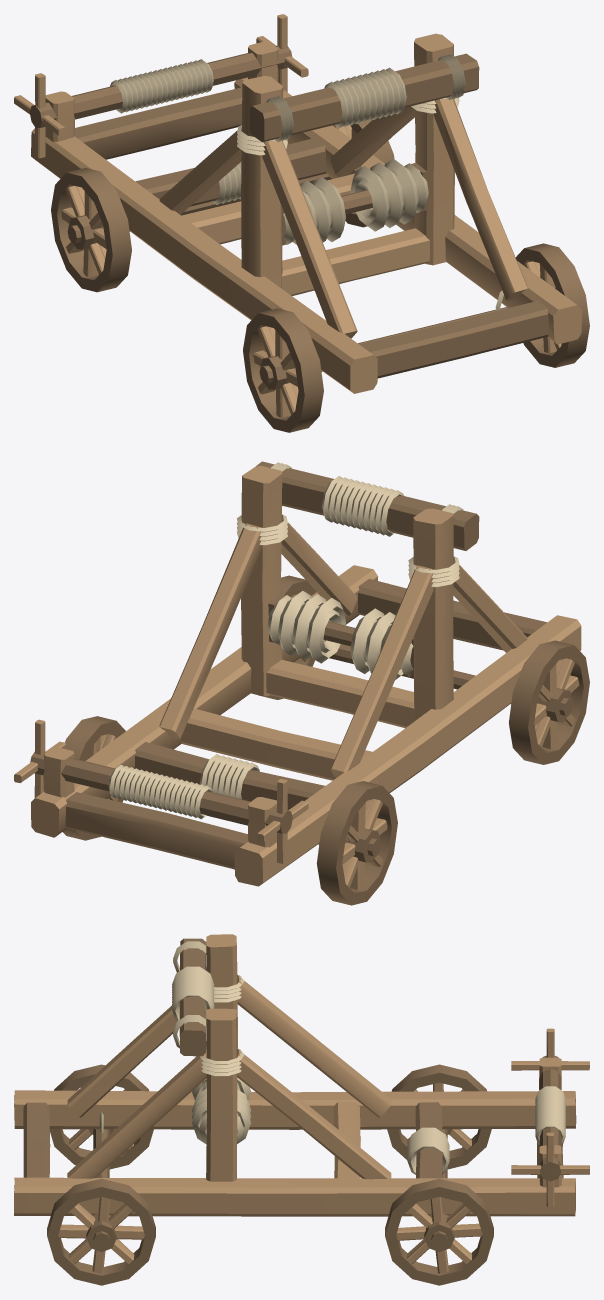
The model's file is CatapultBase.fbx.
3 views of the same model, one above another, from view 1: azimuth 30°, elevation 25°; view 2: azimuth 150°, elevation 25°; view 3: azimuth 270°, elevation 25° (orthographic). The views are drawn at different scales.
Parts seen in each view (by area): view 1: CatapultBase; view 2: CatapultBase; view 3: CatapultBase.
Part boxes in pixels (x1=…): CatapultBase: x1=14, y1=14, x2=589, y2=432; CatapultBase: x1=14, y1=461, x2=589, y2=905; CatapultBase: x1=14, y1=934, x2=589, y2=1285.
Size of the model in its own units: 2.84 by 2.51 by 5.29.
